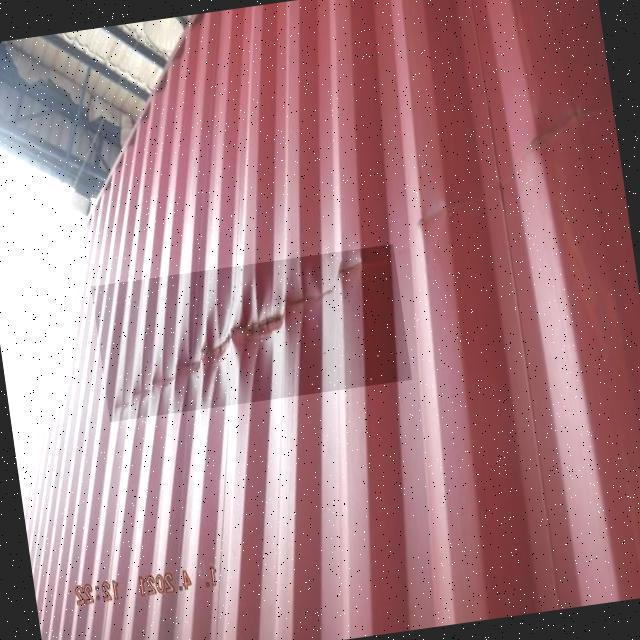dent: (92, 245, 413, 423)
